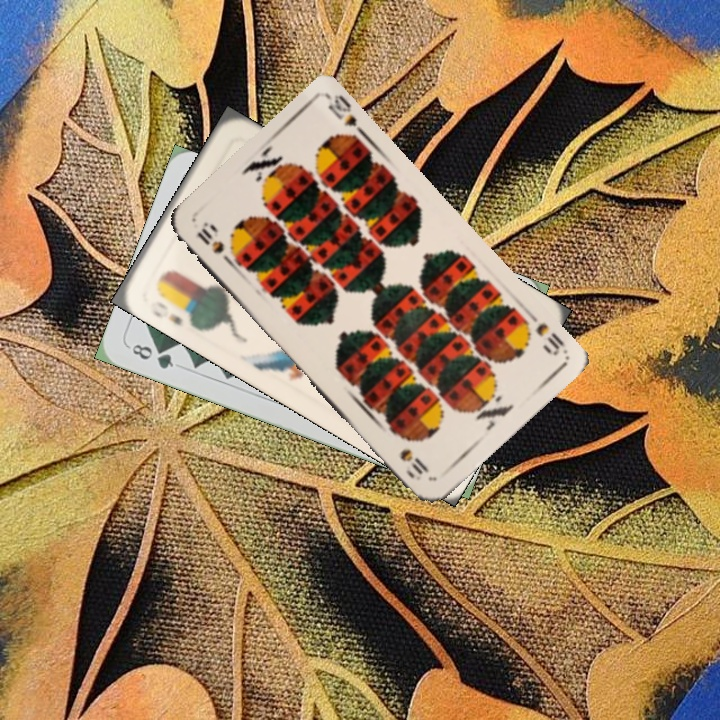EO: (146, 296, 186, 328)
G8: (125, 340, 176, 372)
S10: (192, 219, 235, 268), (531, 318, 567, 359)
